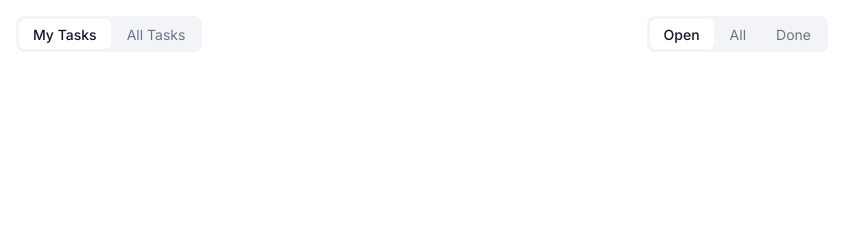
Scenario: Tasks page › empty all/open says 'All your meeting tasks in one place'
Click the tab "All Tasks".
click(156, 34)  # box 113,19 -> 199,49
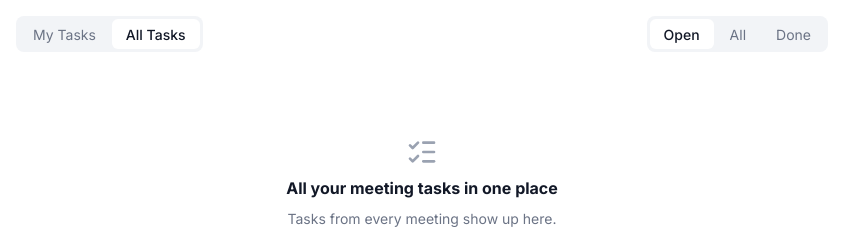
Now the text "All your meeting tasks in one place" is shown, box 286,176 -> 558,200
